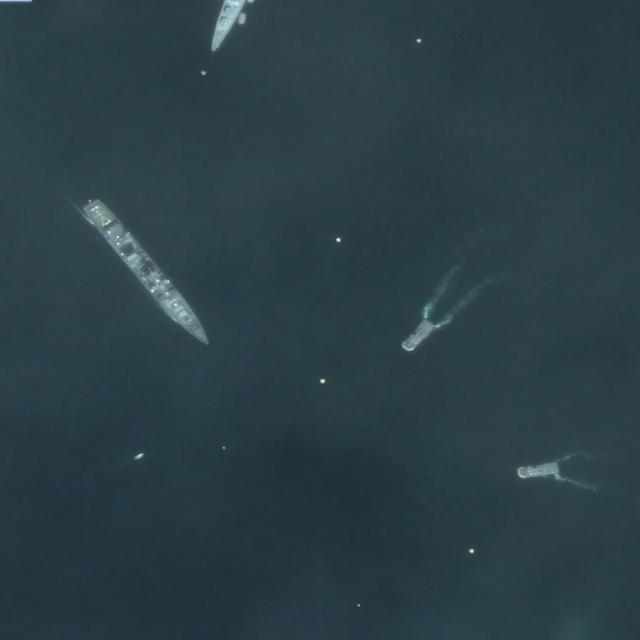Destroyer: (79, 195, 220, 354)
Other Warship: (400, 317, 436, 355), (517, 460, 559, 480)
